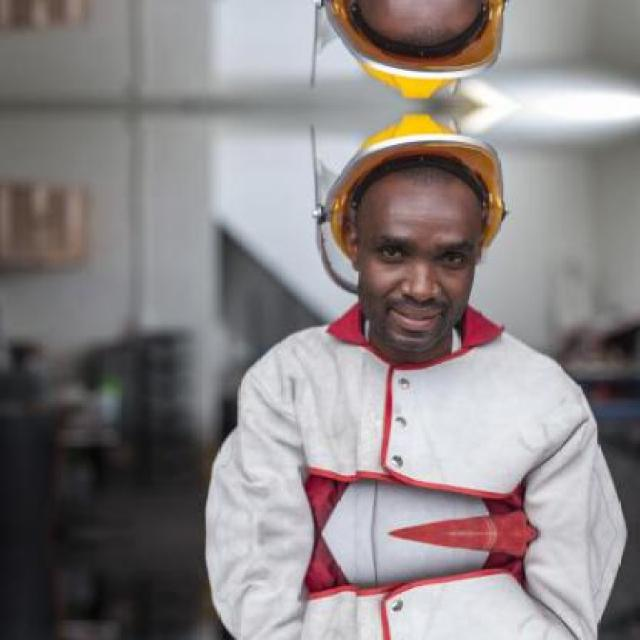helmet: (296, 106, 522, 362), (295, 0, 523, 108)
